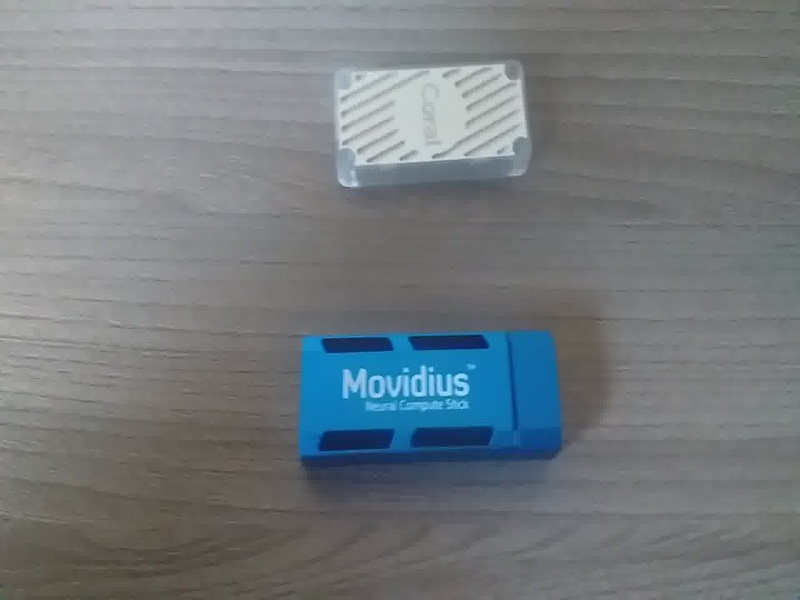coral: (319, 55, 537, 194)
movidius: (288, 325, 580, 477)
